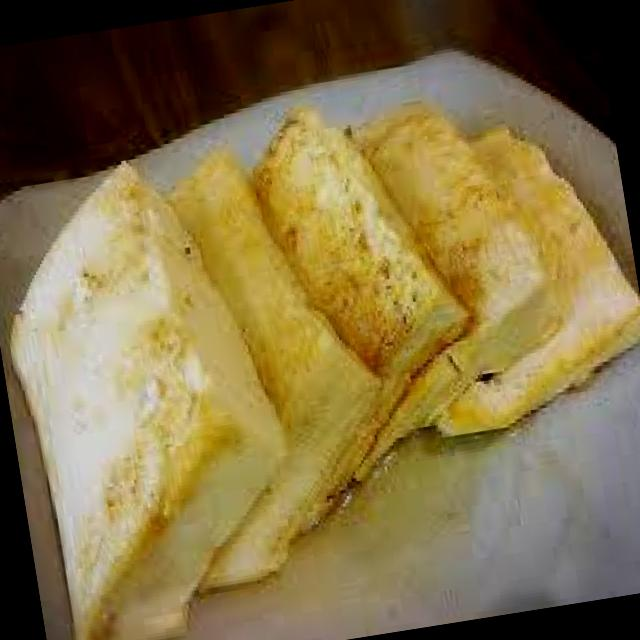tof: (16, 25, 640, 484), (0, 145, 334, 640)
